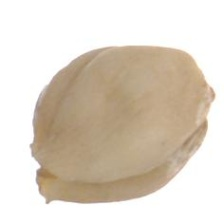L1: (27, 142, 59, 204)
L2: (30, 46, 214, 206)
